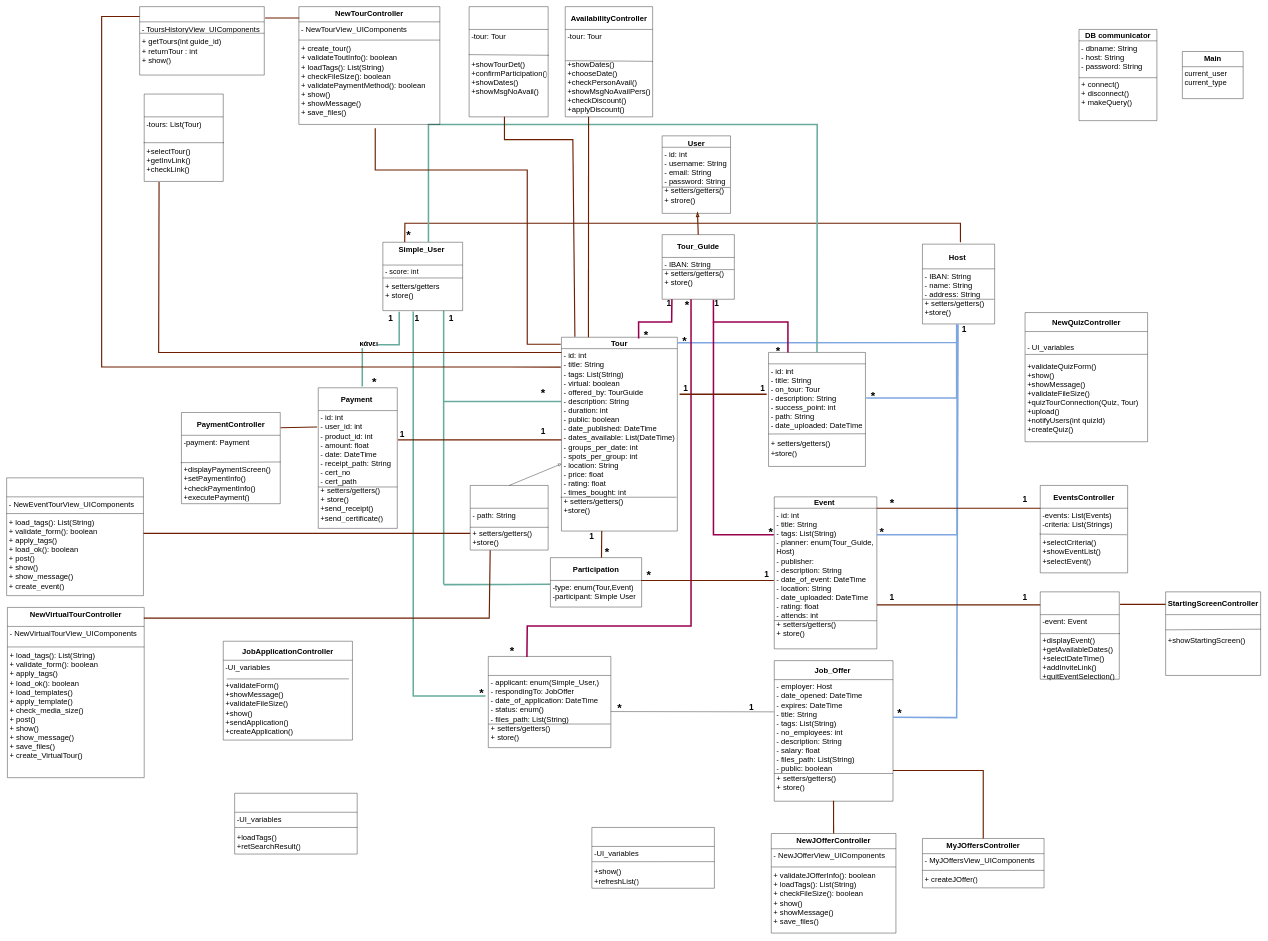
This 1268x941 diagram has some shape labels left out. The shapes that lost their labels are listed below. From the top down, each one's box as (x1, y1, x2, y2) in pixels, then its label:
(139, 6, 264, 75): ToursHistoryController
(469, 6, 548, 117): TourDetController
(144, 94, 223, 181): ToursController
(768, 352, 865, 466): Quiz
(6, 477, 143, 596): NewEventTourController
(470, 485, 548, 550): Virtual_Tour
(1040, 591, 1119, 679): EvntDetController
(488, 656, 611, 748): Job_Application
(234, 793, 357, 854): SearchController
(591, 827, 714, 888): JobOffersListController
